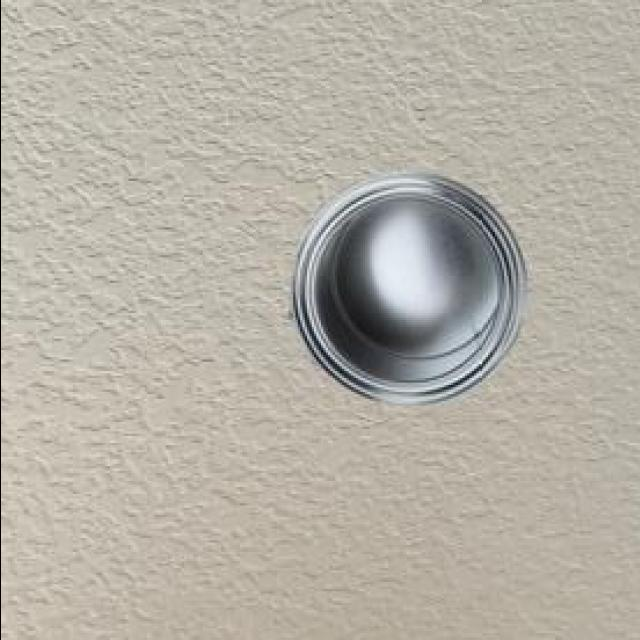logam: (286, 170, 521, 405)
